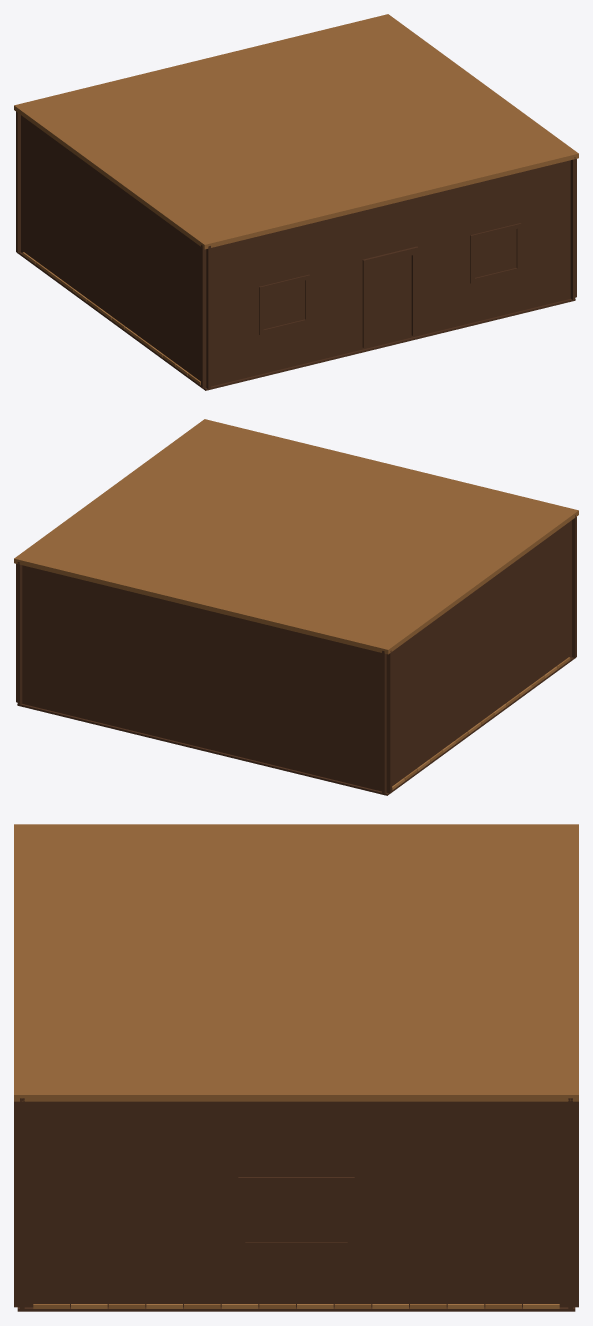
Rendered from interior_cabana.glb.
The picture shows the model from 3 angles, top to bottom: view 1: azimuth 30°, elevation 25°; view 2: azimuth 150°, elevation 25°; view 3: azimuth 270°, elevation 25°; orthographic projection. The views are drawn at different scales.
Visible parts, largest first — view 1: Techo_Interior, Pared_Interior_Frente, Pared_Interior_Derecha, Piso_Interior, Marco_Salida, Ventana_Interior_Frente_Izq, Ventana_Interior_Frente_Der, Pared_Interior_Izquierda, Pared_Interior_Atras; view 2: Techo_Interior, Pared_Interior_Atras, Pared_Interior_Derecha, Piso_Interior, Pared_Interior_Izquierda, Pared_Interior_Frente; view 3: Techo_Interior, Pared_Interior_Izquierda, Piso_Interior, Ventana_Interior_Izquierda, Pared_Interior_Atras, Pared_Interior_Frente.
Boxes of the visible parts, x1,y1,x2,y2 form: Techo_Interior: [14, 14, 578, 249]; Pared_Interior_Frente: [201, 159, 576, 388]; Pared_Interior_Derecha: [21, 115, 210, 389]; Piso_Interior: [17, 252, 575, 390]; Marco_Salida: [362, 246, 418, 347]; Ventana_Interior_Frente_Izq: [470, 223, 521, 283]; Ventana_Interior_Frente_Der: [259, 274, 309, 335]; Pared_Interior_Izquierda: [570, 157, 575, 299]; Pared_Interior_Atras: [16, 111, 20, 252]; Techo_Interior: [14, 419, 578, 654]; Pared_Interior_Atras: [16, 564, 391, 793]; Pared_Interior_Derecha: [382, 520, 571, 794]; Piso_Interior: [17, 657, 575, 795]; Pared_Interior_Izquierda: [17, 562, 22, 704]; Pared_Interior_Frente: [572, 515, 576, 657]; Techo_Interior: [14, 824, 578, 1101]; Pared_Interior_Izquierda: [14, 1101, 578, 1307]; Piso_Interior: [17, 1304, 575, 1311]; Ventana_Interior_Izquierda: [238, 1177, 354, 1248]; Pared_Interior_Atras: [568, 1098, 572, 1309]; Pared_Interior_Frente: [20, 1098, 24, 1309].
Size of the model in its own units: 8.5 by 3.2 by 7.5.
